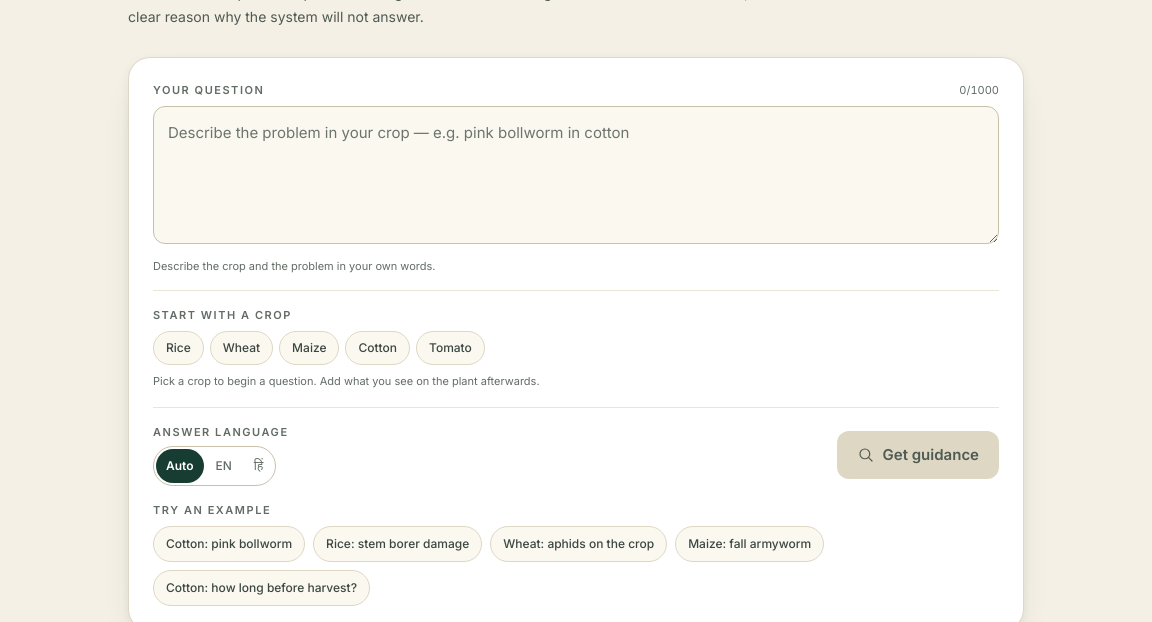
Test: AdvisoryAssistant › retries the same question without inventing an answer
Later steps or results of the test are not shown.
Type "How do I control pink bollworm in cotton?" into the text box labelled "Your question" at (576, 175), box [153, 106, 999, 244]
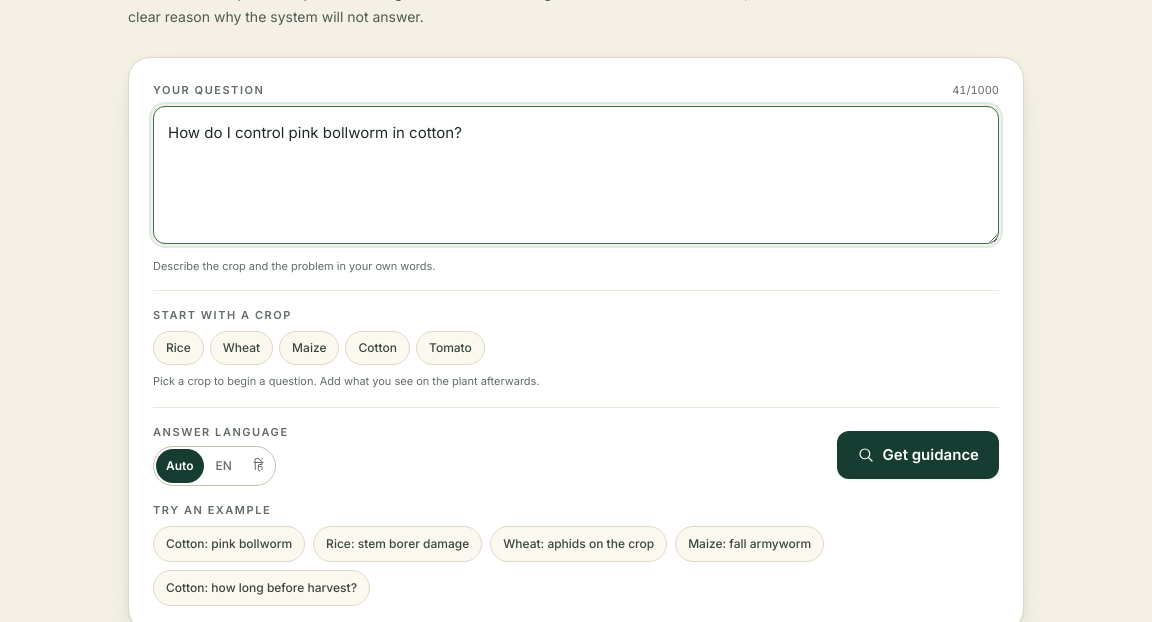
Click the button "Get guidance" at (918, 455), box [837, 431, 999, 479]
(page scrolled)
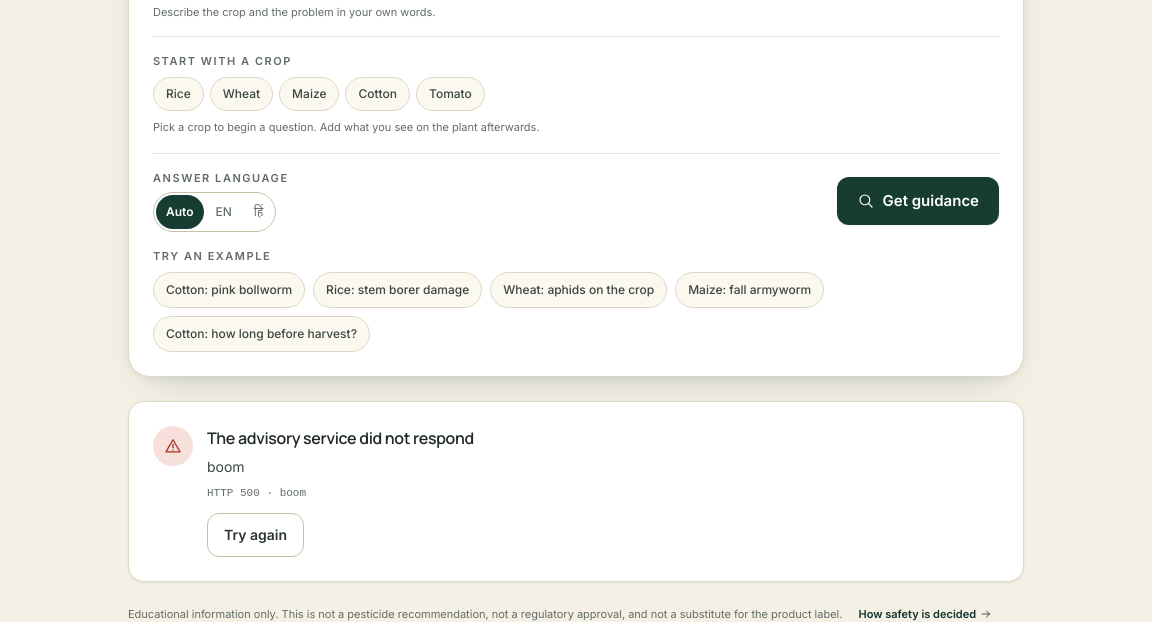
Expected: the button "Try again" is shown, [207, 513, 304, 557]
